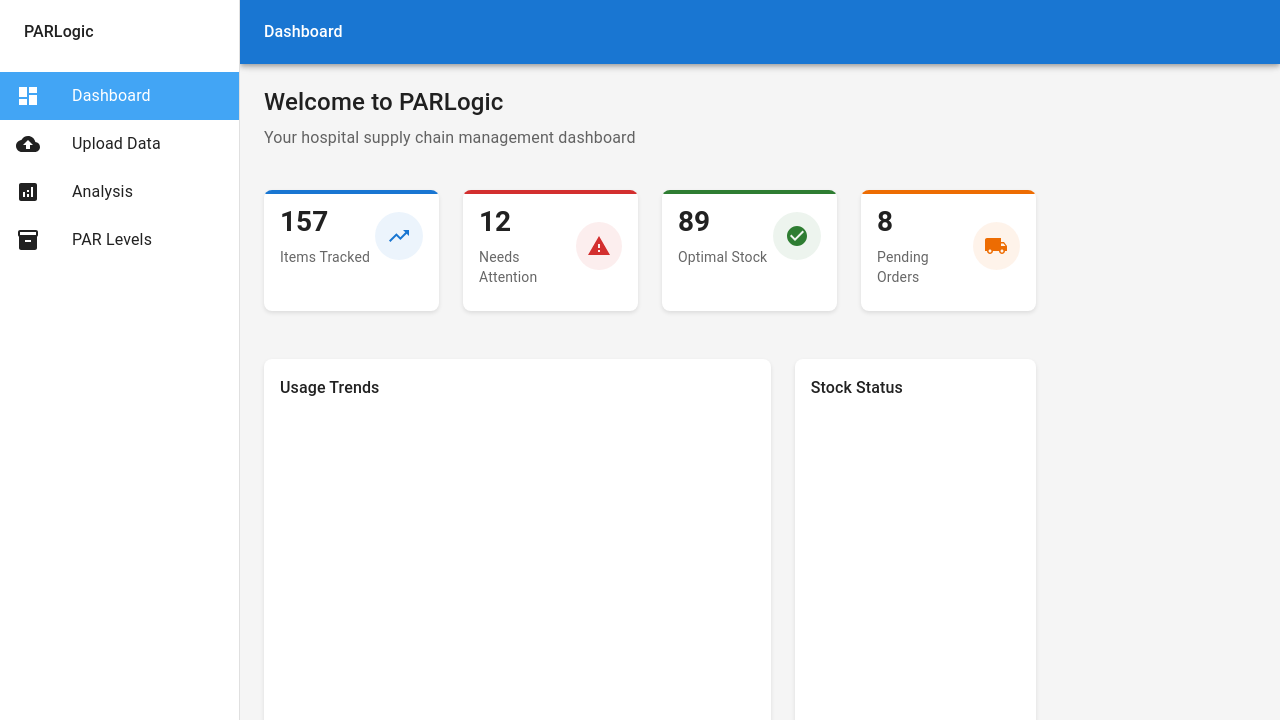
Test: Navigation › should navigate to PAR Levels page
Step 1. Click the text "PAR Levels" → {"x": 112, "y": 240}, box [72,230,152,249]
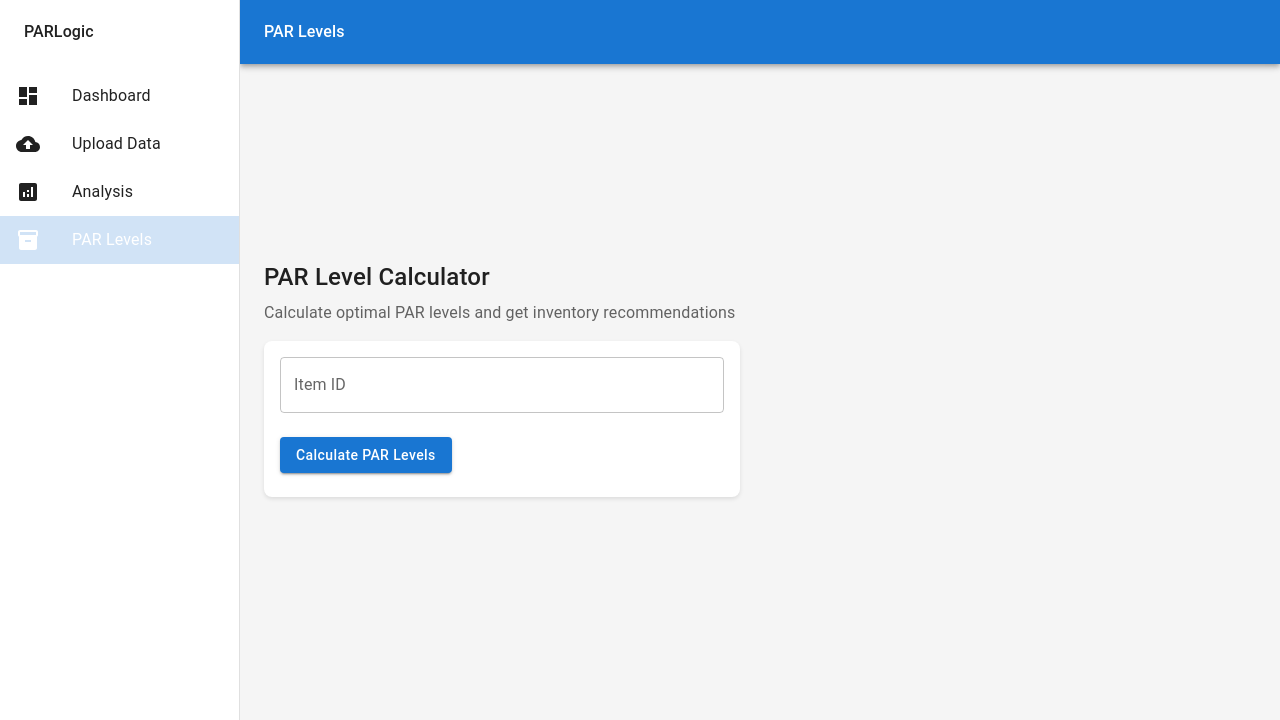
Check: the heading "PAR Level Calculator" is shown, box [264,263,490,291]
